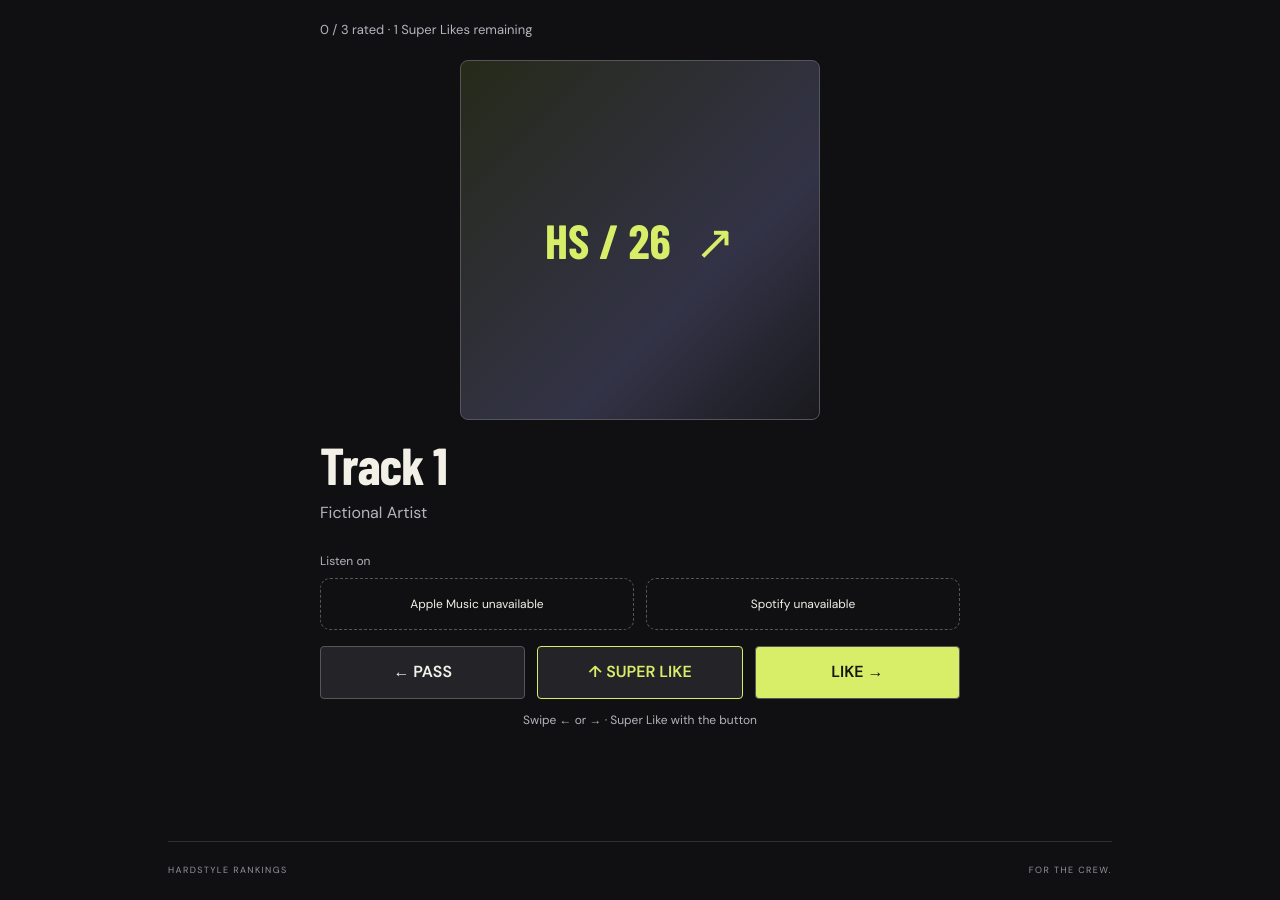
Test case: durable rating › saves LIKE with expected version zero then advances and refreshes personal progress
(page scrolled)
expect the heading "Track 1" is shown: met, box [320,433,447,495]
Click the button "LIKE →" at (857, 672), box [755,646,960,699]
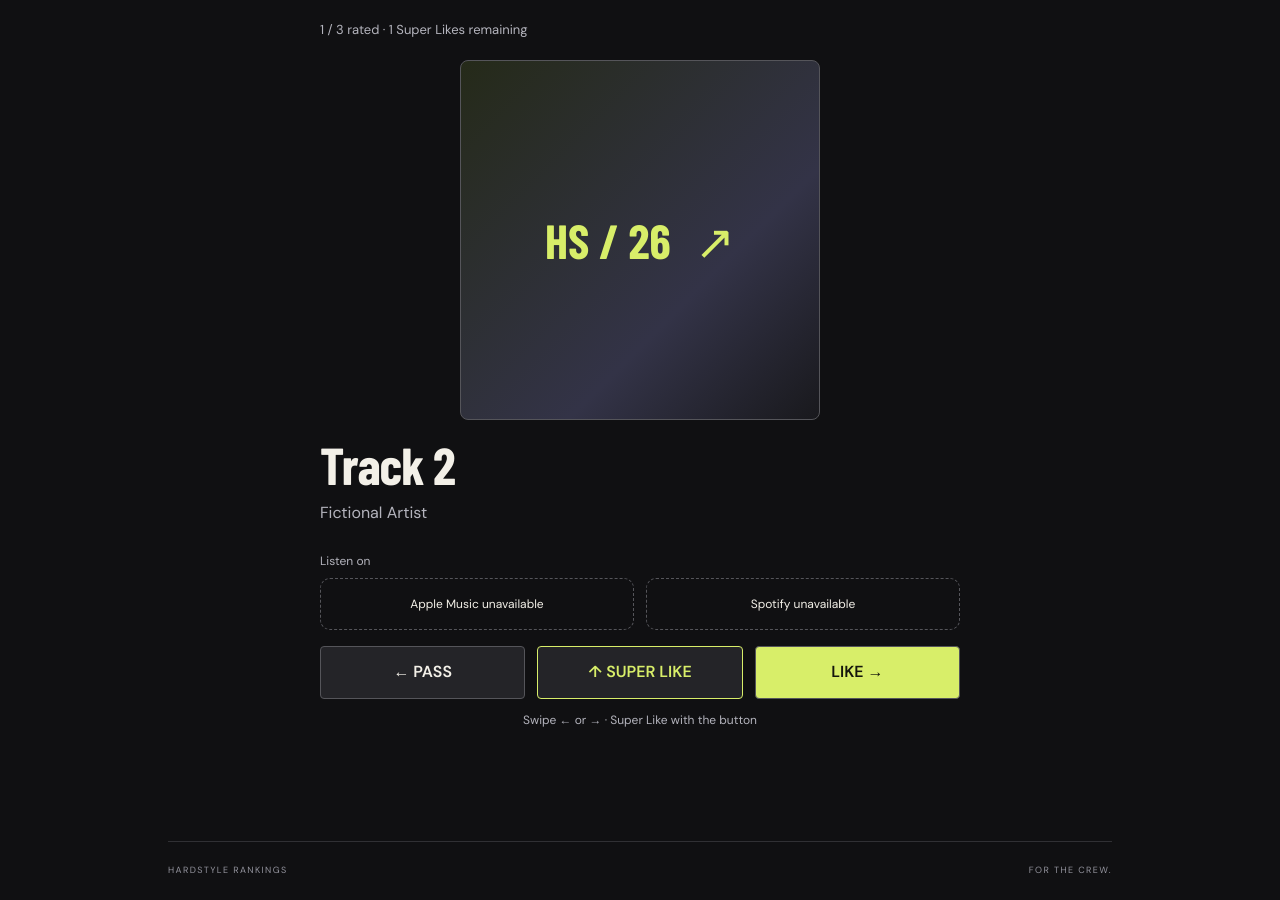
expect the heading "Track 2" is shown: met, box [320,433,455,495]
